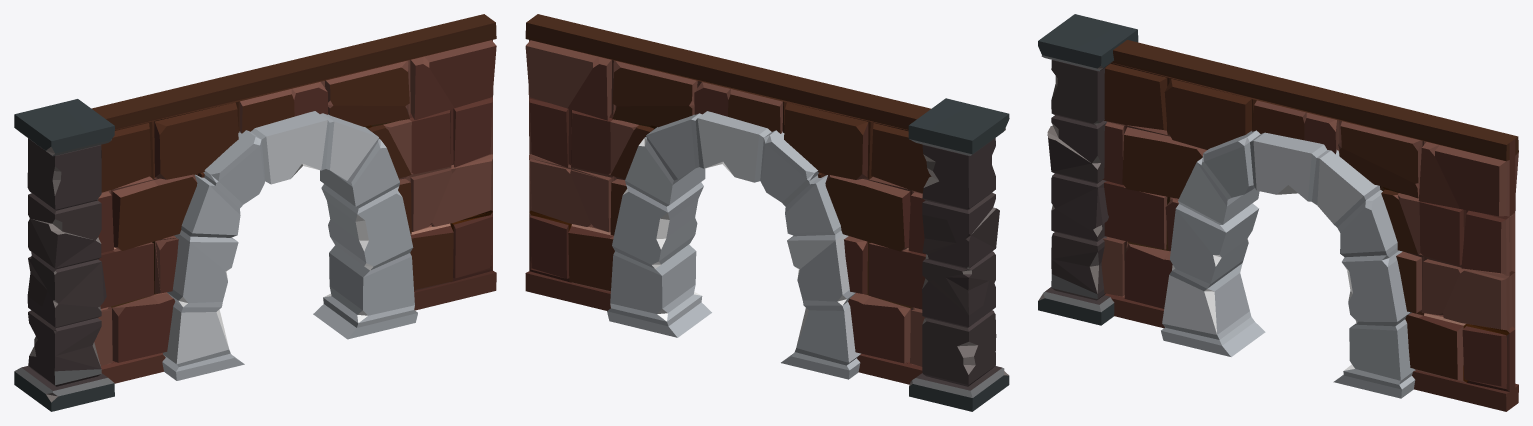
The model's file is Door Wall.fbx.
3 renders of one model, left to right at view 1: azimuth 30°, elevation 25°; view 2: azimuth 150°, elevation 25°; view 3: azimuth 330°, elevation 25°, orthographic.
Visible parts, largest first — view 1: Door Wall; view 2: Door Wall; view 3: Door Wall.
Part boxes in pixels (x1=…): Door Wall: x1=14, y1=14, x2=496, y2=411; Door Wall: x1=525, y1=14, x2=1009, y2=411; Door Wall: x1=1038, y1=14, x2=1518, y2=411.
Bounding box in the file's own units: 1073 × 606 × 153.
